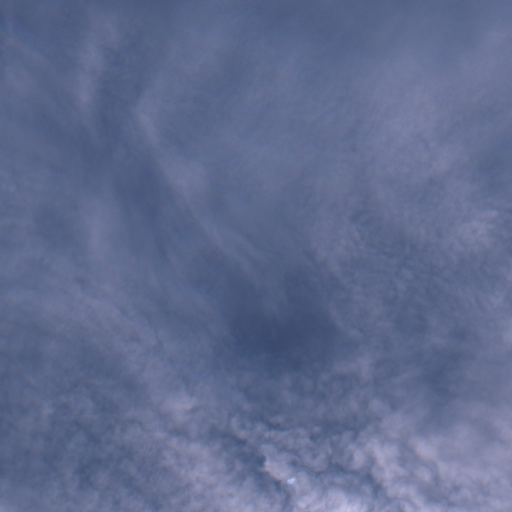Iceberg: (287, 477, 294, 483)
